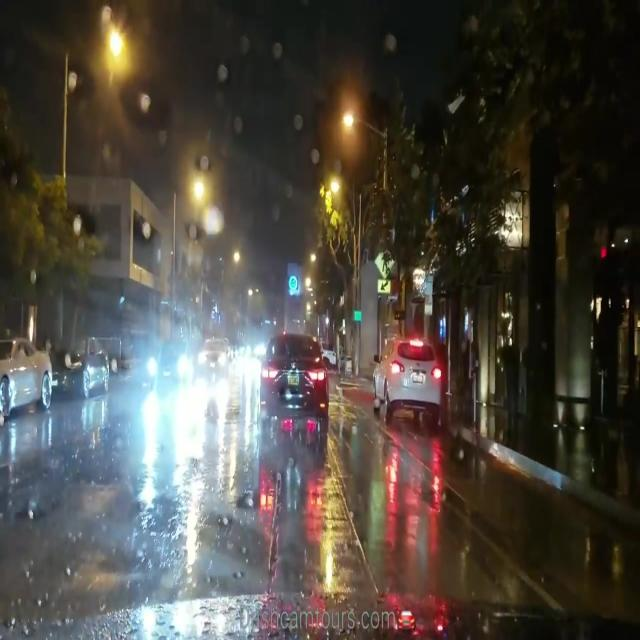Car: (260, 336, 327, 427), (372, 337, 439, 414), (0, 340, 48, 418), (58, 357, 108, 399), (195, 336, 227, 379)
